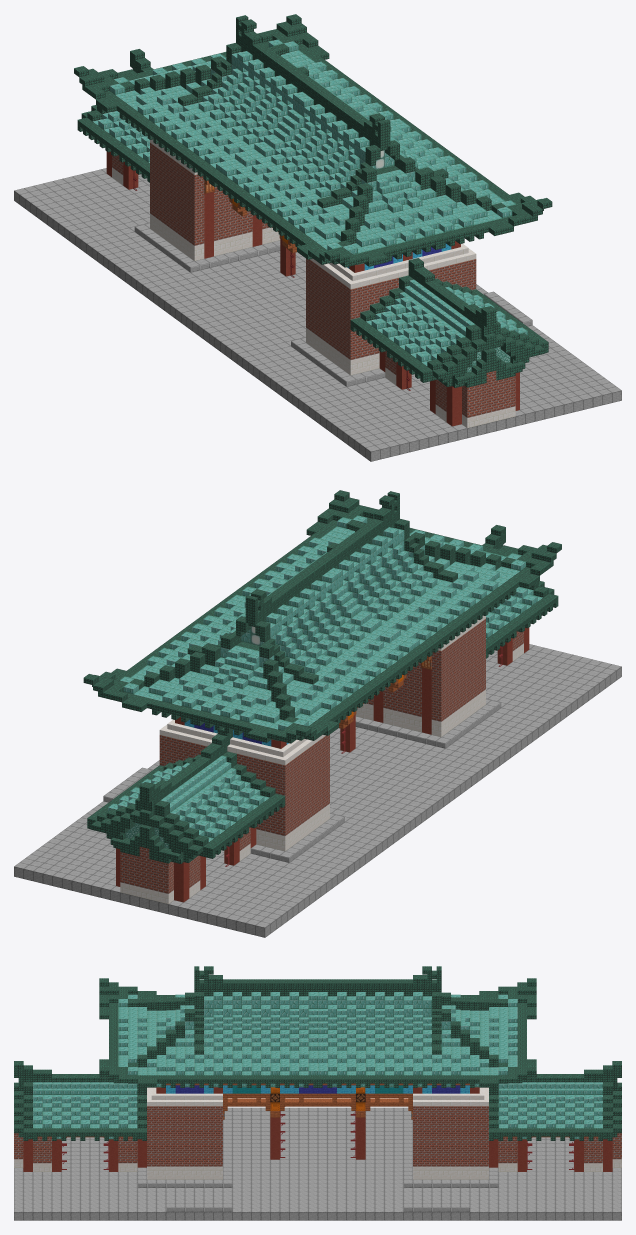
File: East_Gate_Voxel.obj
The picture shows the model from 3 angles, top to bottom: view 1: azimuth 30°, elevation 25°; view 2: azimuth 150°, elevation 25°; view 3: azimuth 270°, elevation 25°; orthographic projection. The views are drawn at different scales.
Parts seen in each view (by area): view 1: Smooth_Stone, Prismarine_Brick_Slab, Dark_Prismarine_Slab, Dark_Prismarine_Stairs, Bricks, Prismarine_Brick_Stairs, Block_of_Quartz, Stone_Slab, Red_Terracotta, Smooth_Quartz_Stairs, Dark_Prismarine; view 2: Smooth_Stone, Prismarine_Brick_Slab, Dark_Prismarine_Slab, Dark_Prismarine_Stairs, Bricks, Prismarine_Brick_Stairs, Block_of_Quartz, Stone_Slab, Red_Terracotta, Smooth_Quartz_Stairs, Dark_Prismarine; view 3: Smooth_Stone, Prismarine_Brick_Slab, Dark_Prismarine_Slab, Bricks, Prismarine_Brick_Stairs, Dark_Prismarine_Stairs, Stone_Slab, Red_Terracotta, Block_of_Quartz, Smooth_Quartz_Stairs, Acacia_Stairs, Acacia_Slab (+5 smaller).
Boxes of the visible parts, box(x1,y1,x2,y2) form: Smooth_Stone: box(14, 168, 621, 461); Prismarine_Brick_Slab: box(98, 39, 527, 362); Dark_Prismarine_Slab: box(74, 14, 552, 387); Dark_Prismarine_Stairs: box(77, 15, 548, 387); Bricks: box(112, 143, 515, 417); Prismarine_Brick_Stairs: box(93, 57, 499, 365); Block_of_Quartz: box(112, 167, 515, 427); Stone_Slab: box(134, 223, 532, 386); Red_Terracotta: box(106, 151, 519, 426); Smooth_Quartz_Stairs: box(150, 139, 476, 289); Dark_Prismarine: box(197, 56, 423, 198); Smooth_Stone: box(14, 644, 621, 937); Prismarine_Brick_Slab: box(108, 515, 537, 838); Dark_Prismarine_Slab: box(83, 490, 561, 863); Dark_Prismarine_Stairs: box(87, 491, 558, 863); Bricks: box(120, 619, 523, 893); Prismarine_Brick_Stairs: box(136, 533, 542, 841); Block_of_Quartz: box(120, 643, 523, 903); Stone_Slab: box(103, 699, 501, 862); Red_Terracotta: box(116, 627, 529, 902); Smooth_Quartz_Stairs: box(159, 615, 485, 765); Dark_Prismarine: box(212, 532, 438, 674); Smooth_Stone: box(14, 1107, 621, 1220); Prismarine_Brick_Slab: box(33, 992, 602, 1128); Dark_Prismarine_Slab: box(14, 975, 621, 1133); Bricks: box(14, 1106, 621, 1166); Prismarine_Brick_Stairs: box(33, 1005, 602, 1139); Dark_Prismarine_Stairs: box(14, 966, 621, 1140); Stone_Slab: box(137, 1123, 498, 1211); Red_Terracotta: box(23, 1087, 612, 1171); Block_of_Quartz: box(14, 1159, 621, 1179); Smooth_Quartz_Stairs: box(147, 1087, 488, 1106); Acacia_Stairs: box(38, 1093, 597, 1137); Acacia_Slab: box(85, 1093, 550, 1137).
Bounding box in the file's own units: 26 × 23 × 64.
28 materials, 28 textured.
